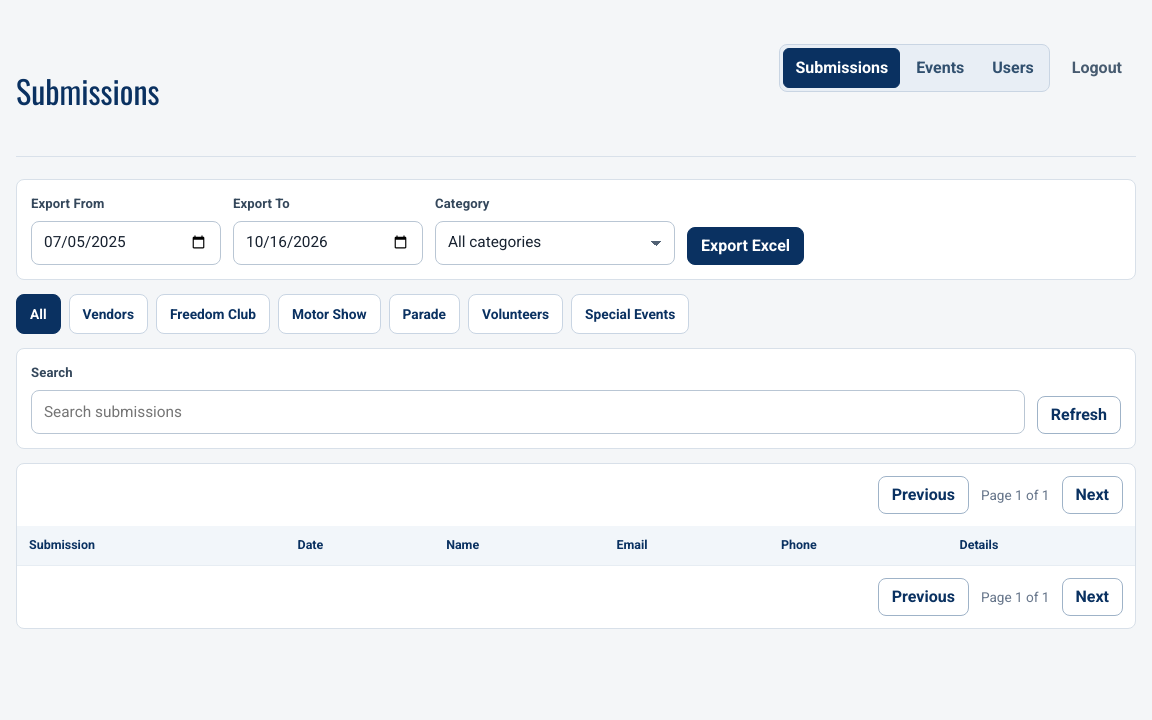
Test case: AdminComponent › shows a shortened Entry Type column only for the Parade filter
What coordinates should you click on to do the following:
click the button with test id "admin-section-submissions"
I would click on:
 (842, 68)
Its box is [783, 48, 900, 88].
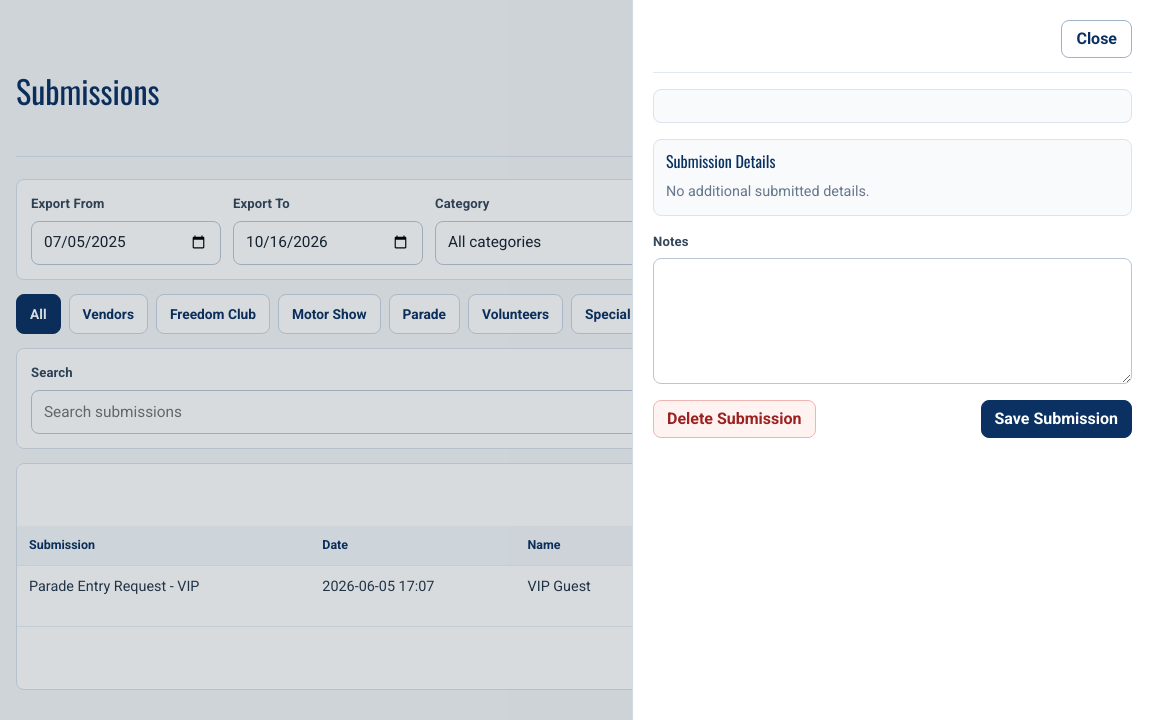
Expected: the column heading "Submission" is shown, [17, 526, 310, 565]
Now the cell "Parade Entry Request - VIP" is shown, box [17, 565, 310, 626]
